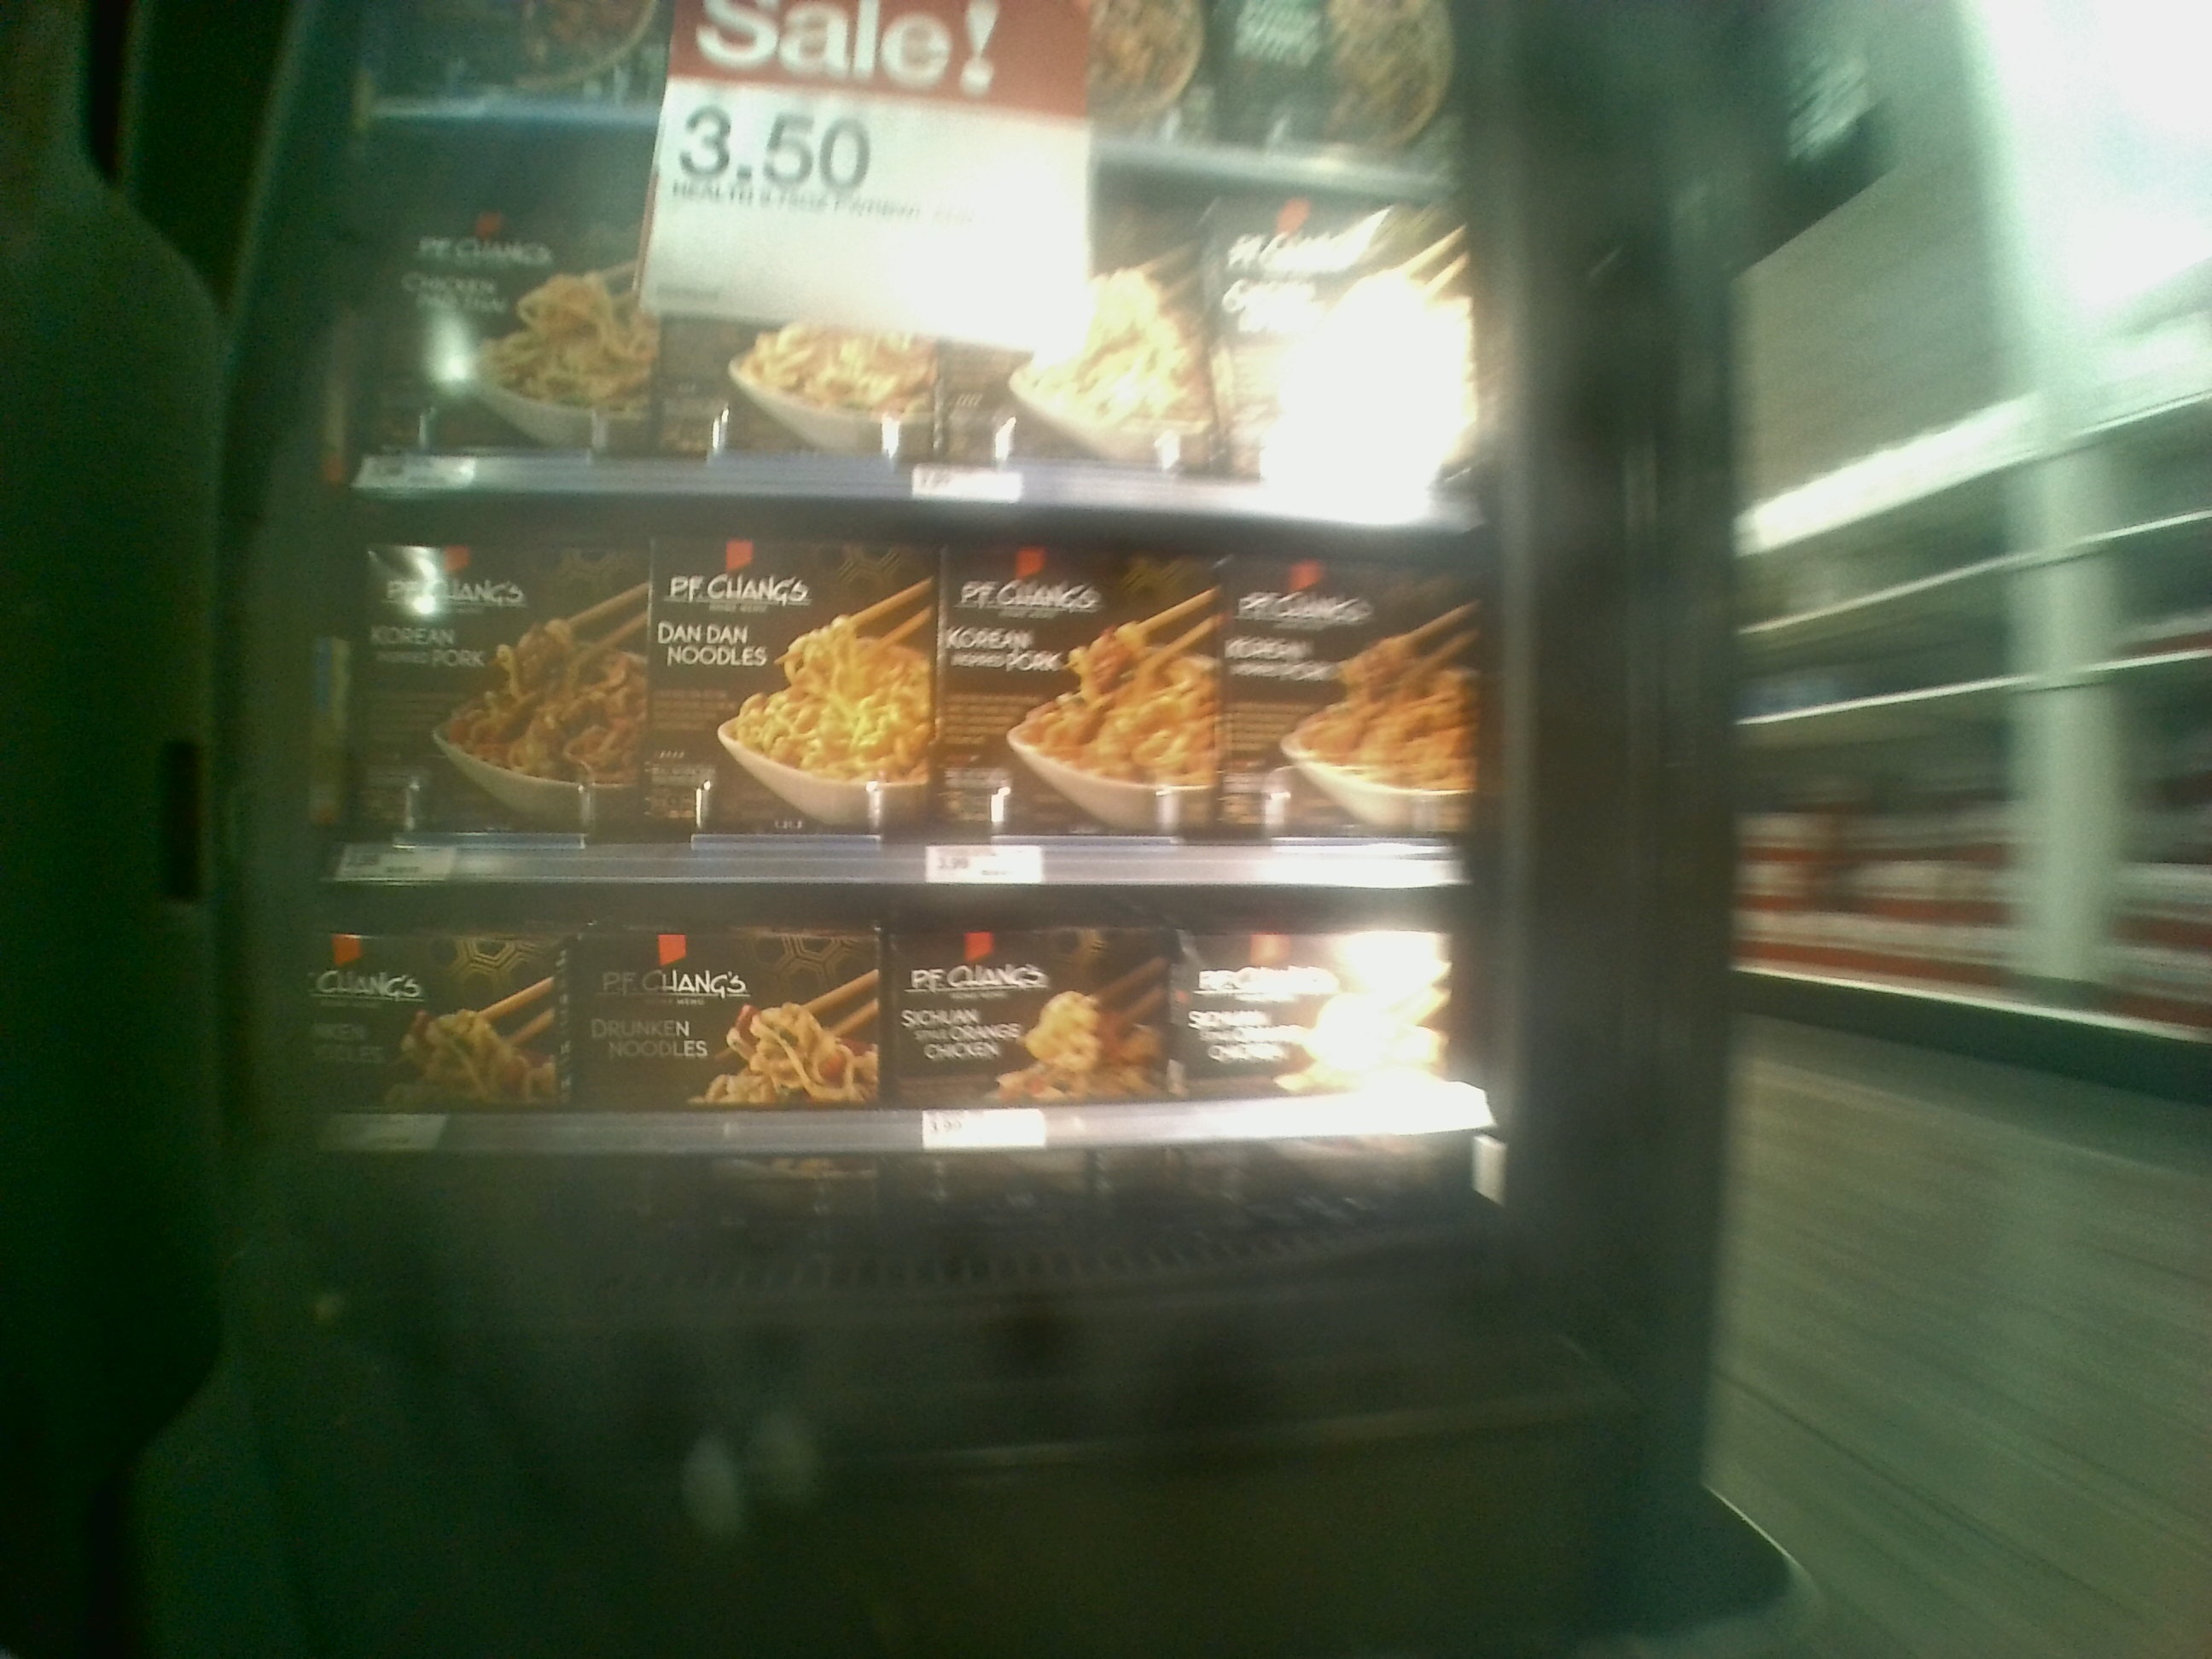shelf: (298, 884, 1494, 1328), (310, 472, 1475, 882)
